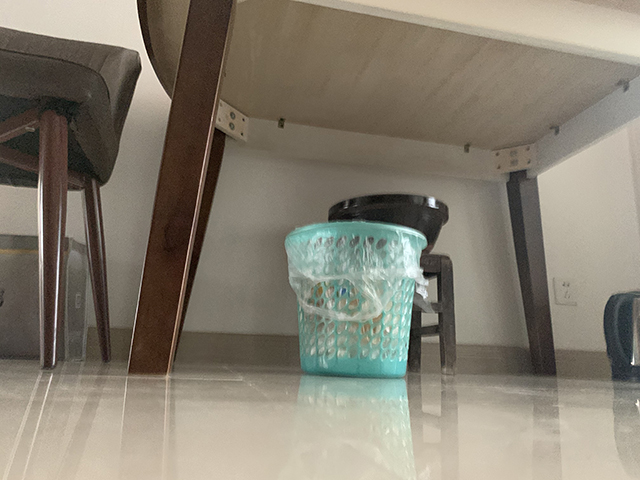stool: (1, 24, 142, 371)
table: (126, 1, 640, 378)
trashcan: (283, 219, 429, 380)
